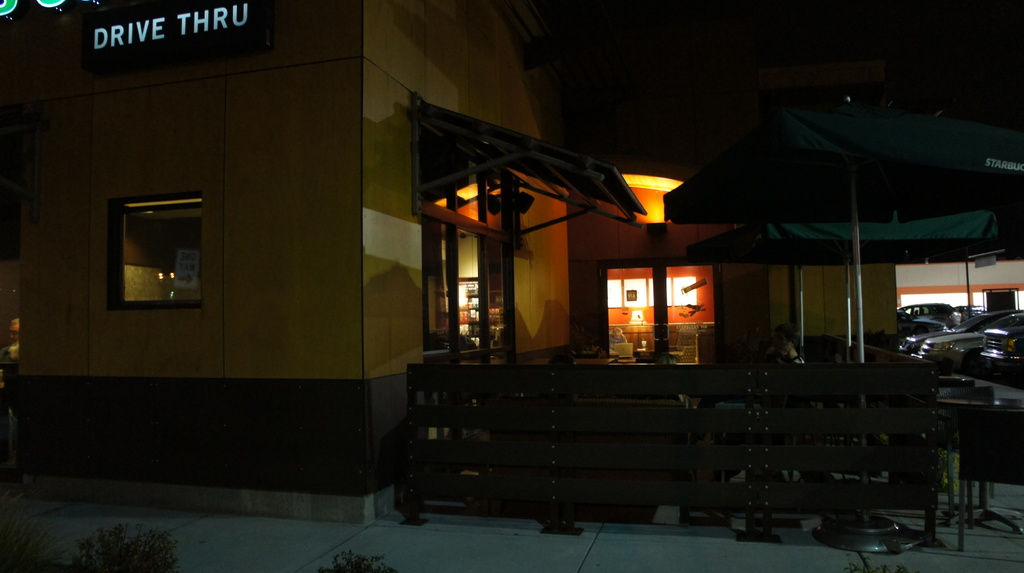Car: (981, 300, 1023, 382), (921, 329, 981, 366), (899, 325, 954, 349), (898, 298, 959, 319)
